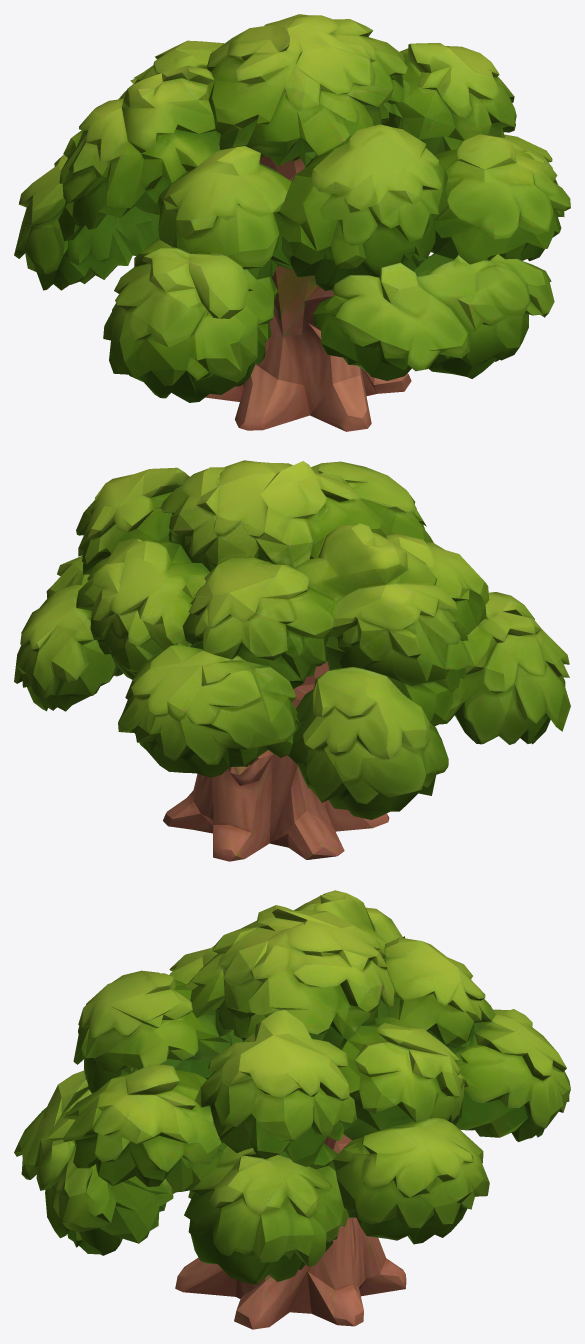
The model's file is tree_c.glb.
3 renders of one model, top to bottom at view 1: azimuth 30°, elevation 25°; view 2: azimuth 150°, elevation 25°; view 3: azimuth 270°, elevation 25°, orthographic. The views are drawn at different scales.
Visible parts, largest first — view 1: tree_c; view 2: tree_c; view 3: tree_c.
Part boxes in pixels (bbox=[...]): tree_c: bbox=[14, 14, 570, 431]; tree_c: bbox=[14, 460, 570, 861]; tree_c: bbox=[14, 890, 570, 1329].
Bounding box in the file's own units: 19.42 × 14 × 19.25.
Materials: 1 (1 with a texture image).
